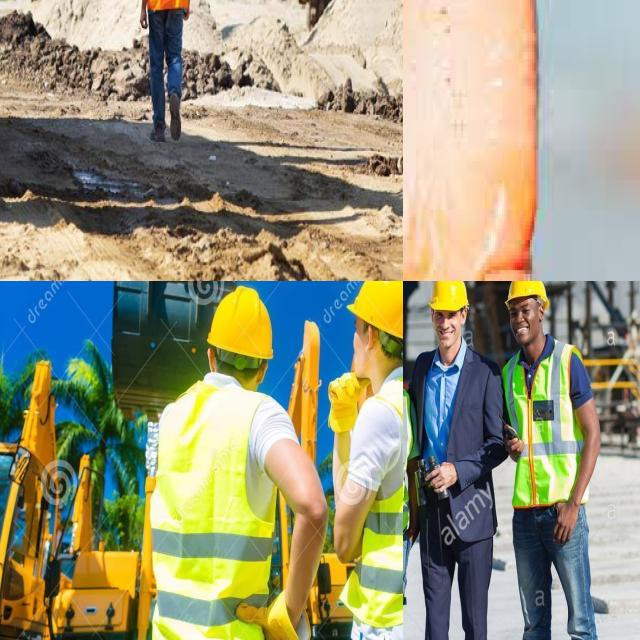No_Ear-Protection: (362, 323, 377, 353), (204, 345, 218, 374), (258, 358, 270, 387)
Sandals: (403, 0, 538, 281)
face_nomask: (340, 315, 385, 377), (506, 297, 540, 349), (435, 308, 464, 353)
hand_glove: (236, 593, 312, 640), (325, 375, 368, 438)
hand_noglove: (430, 457, 458, 498), (556, 498, 581, 543), (138, 8, 150, 30)
head_helmet: (206, 281, 277, 361), (346, 281, 403, 344), (428, 281, 468, 312), (504, 281, 548, 301)
person: (159, 285, 300, 640), (497, 281, 597, 640), (410, 281, 500, 640), (336, 281, 403, 640), (149, 0, 188, 138)
shoes: (165, 89, 185, 145), (144, 119, 167, 143)
vest: (160, 389, 265, 640), (505, 342, 586, 505), (381, 383, 403, 624)
